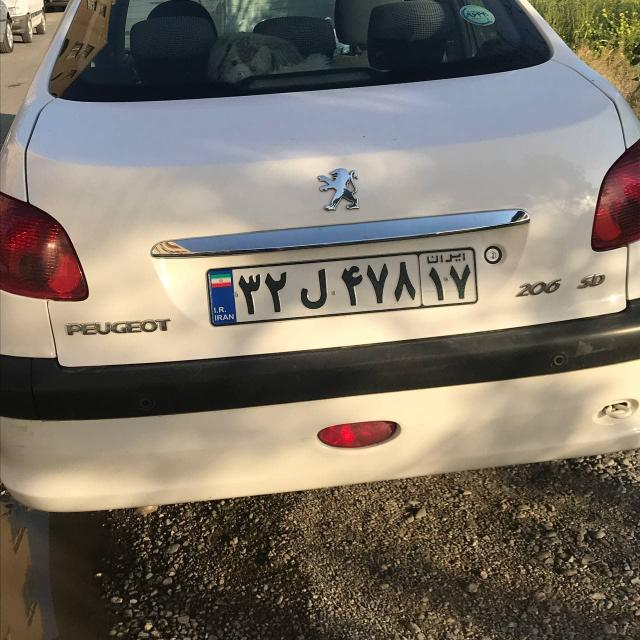Plates: (208, 246, 479, 326)
